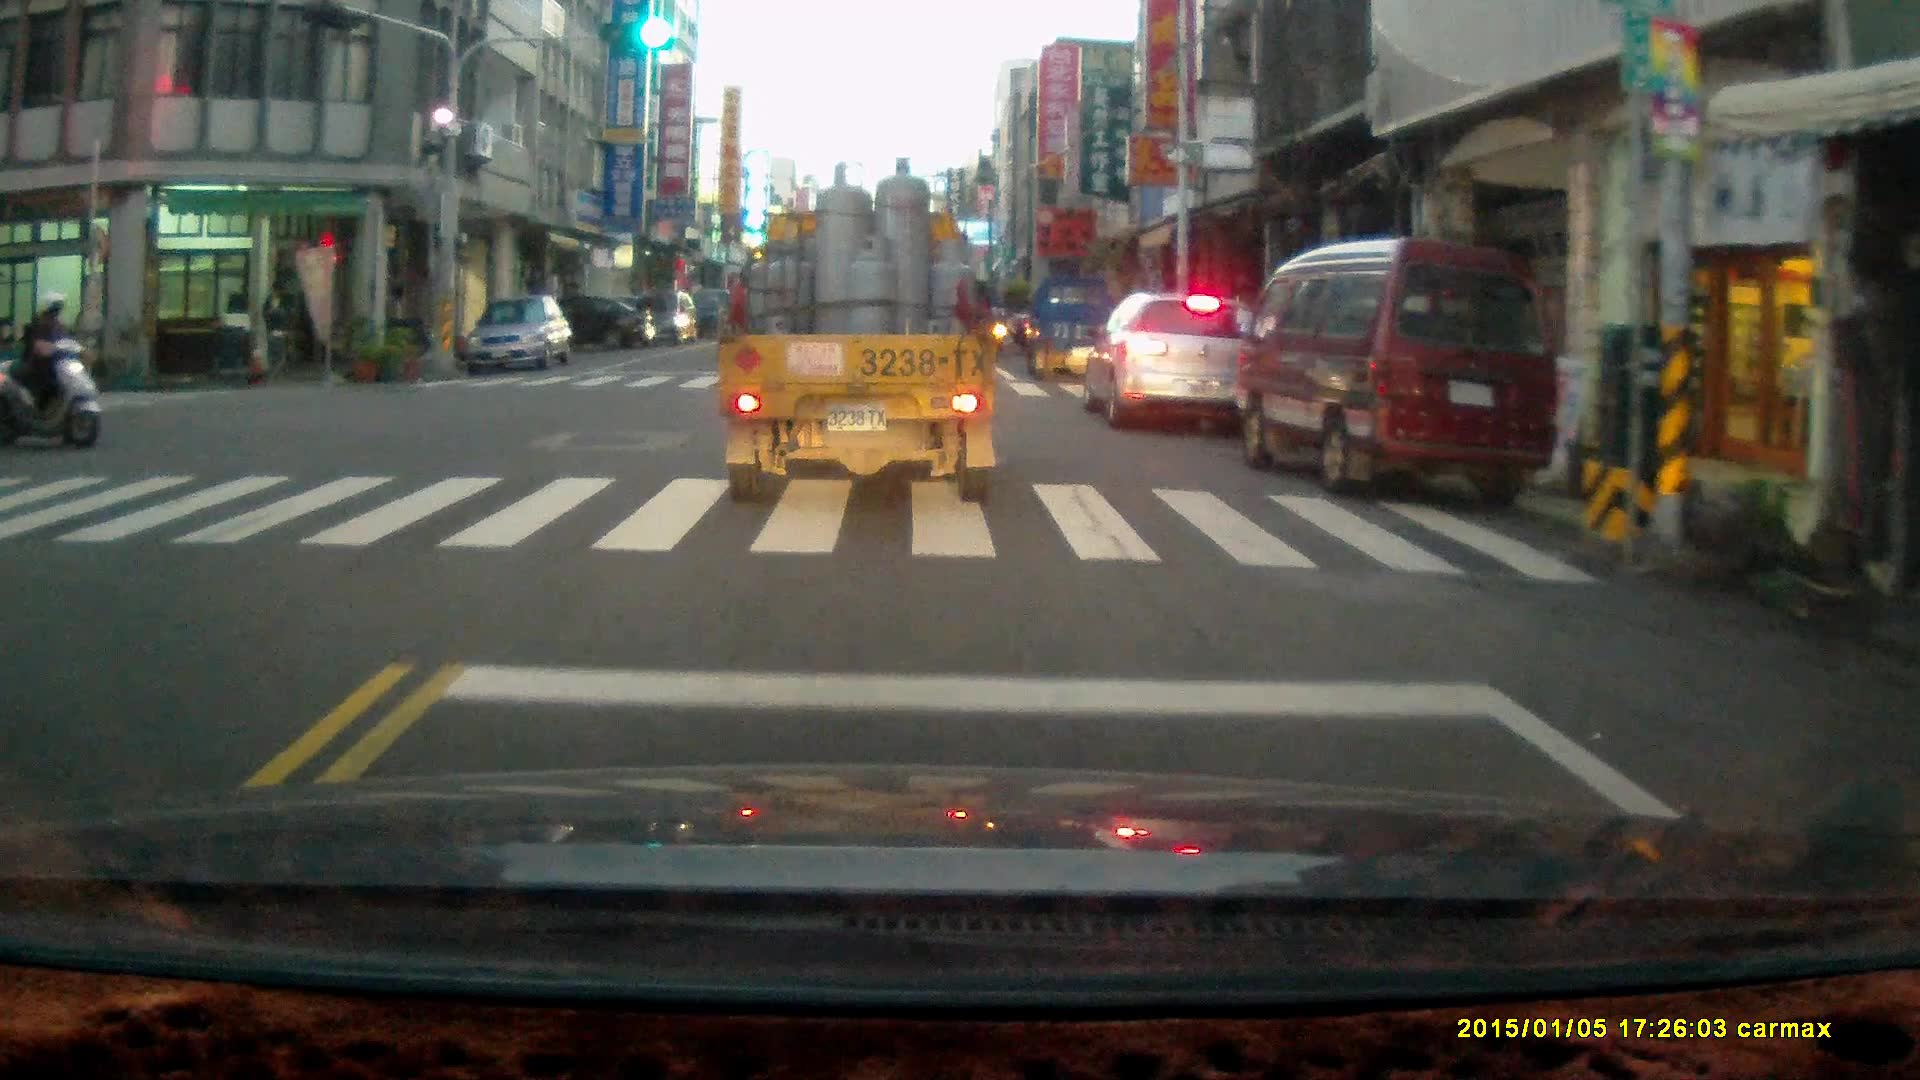pedestrian: (259, 276, 293, 384)
rider: (4, 291, 104, 449)
vehicle: (721, 162, 999, 511), (1243, 243, 1562, 512), (1080, 289, 1272, 444), (1029, 277, 1132, 394), (509, 296, 650, 359), (467, 299, 577, 378), (621, 283, 693, 346)
